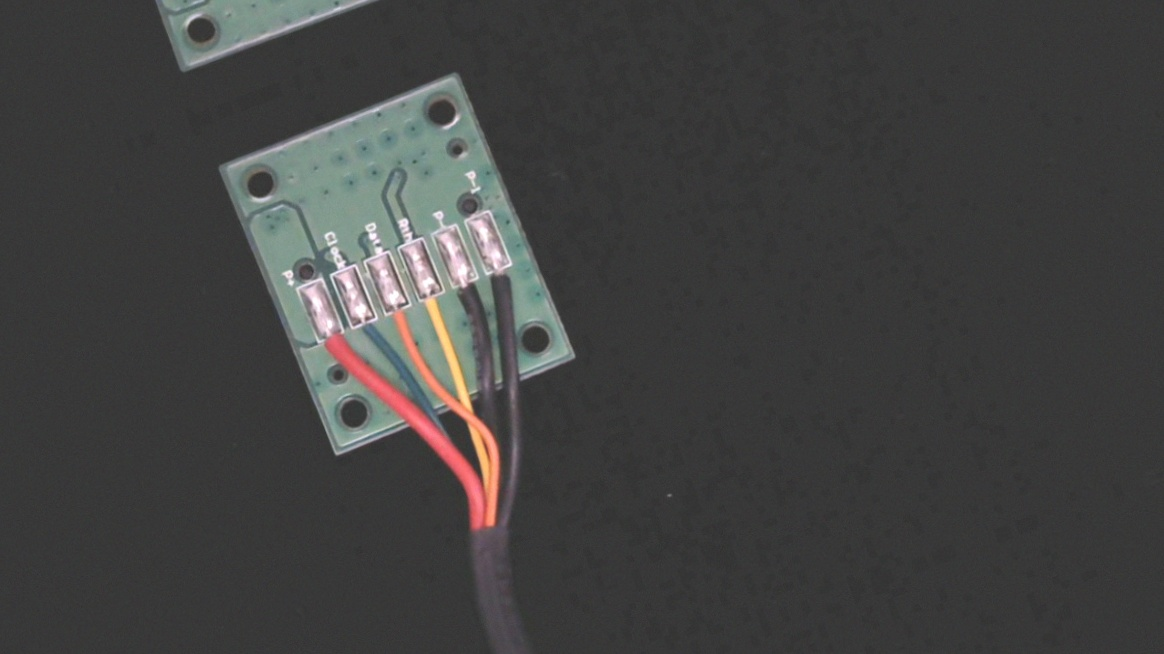Black: (445, 261, 496, 331)
Black1: (481, 250, 531, 319)
Green: (347, 303, 394, 366)
Orange: (379, 288, 425, 352)
Red: (314, 316, 362, 384)
Yellow: (412, 273, 461, 342)
